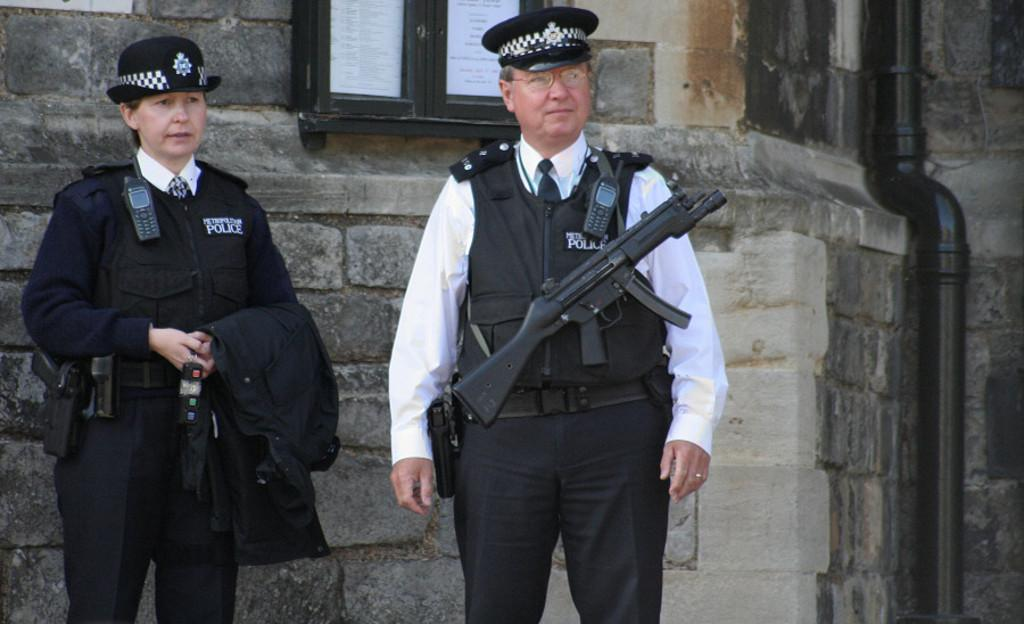Hat: (102, 36, 224, 112), (478, 8, 602, 74)
